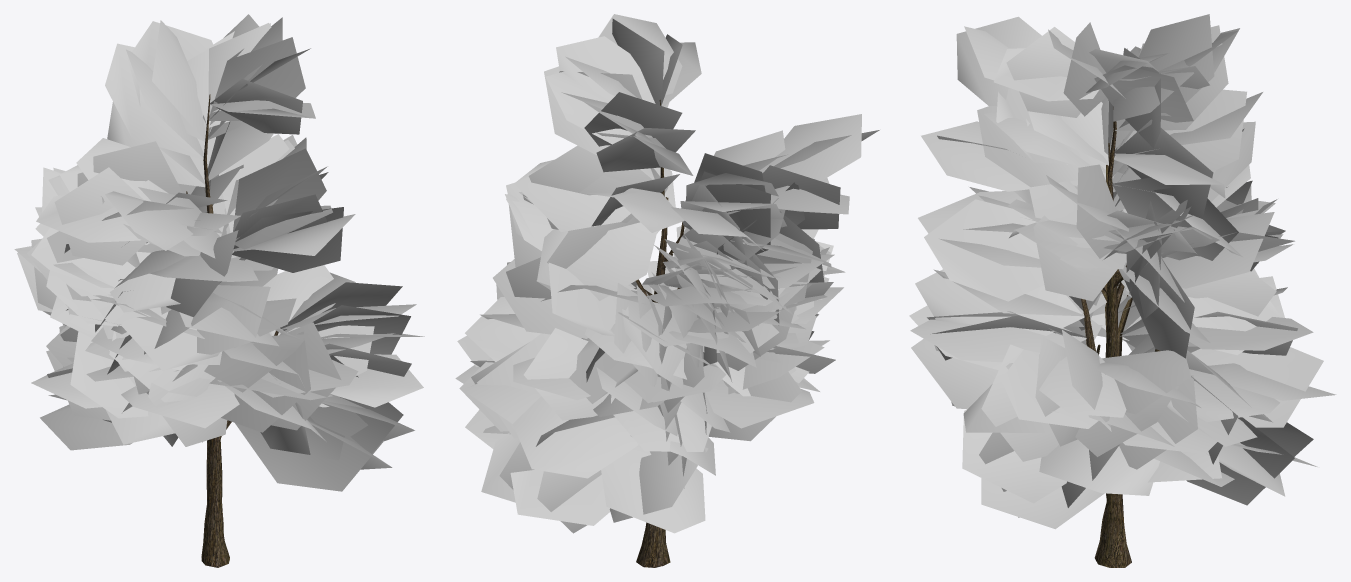
Rendered from SM_Tree04.FBX.
The picture shows the model from 3 angles, left to right: view 1: azimuth 30°, elevation 25°; view 2: azimuth 150°, elevation 25°; view 3: azimuth 270°, elevation 25°; orthographic projection. The views are drawn at different scales.
Visible parts, largest first — view 1: SM_Tree04; view 2: SM_Tree04; view 3: SM_Tree04.
Boxes of the visible parts, x1,y1,x2,y2 form: SM_Tree04: (14, 14, 424, 567); SM_Tree04: (455, 14, 879, 567); SM_Tree04: (909, 14, 1336, 567).
Size of the model in its own units: 595 by 561 by 802.
